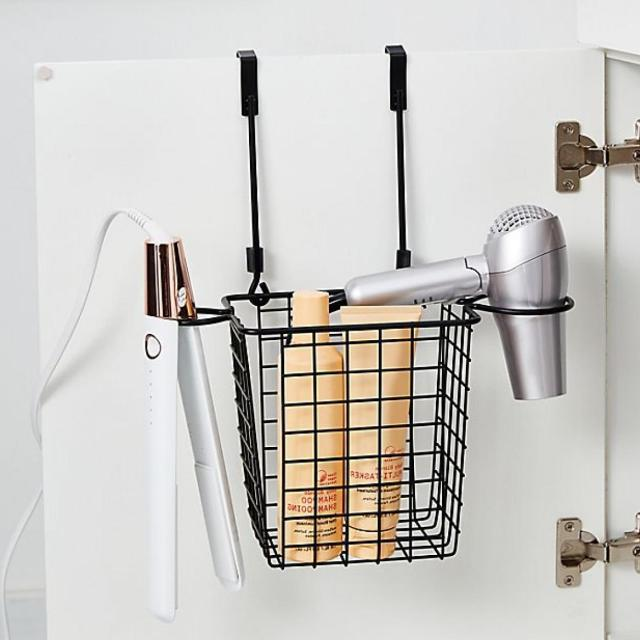dryer: (335, 193, 598, 415)
